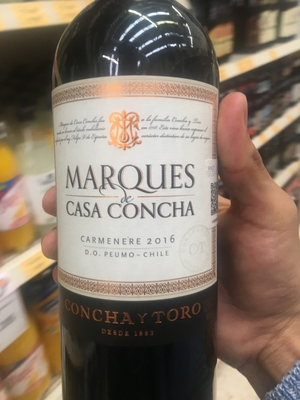marques de casa concha carmenere: (48, 10, 234, 400)
